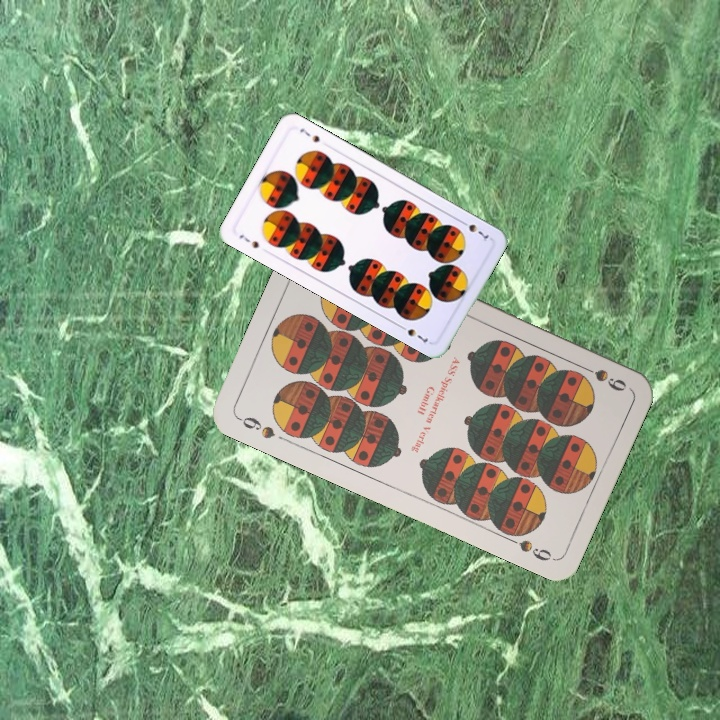S7: (456, 216, 492, 244), (235, 230, 262, 251)
S9: (575, 360, 629, 394), (233, 412, 278, 442)
